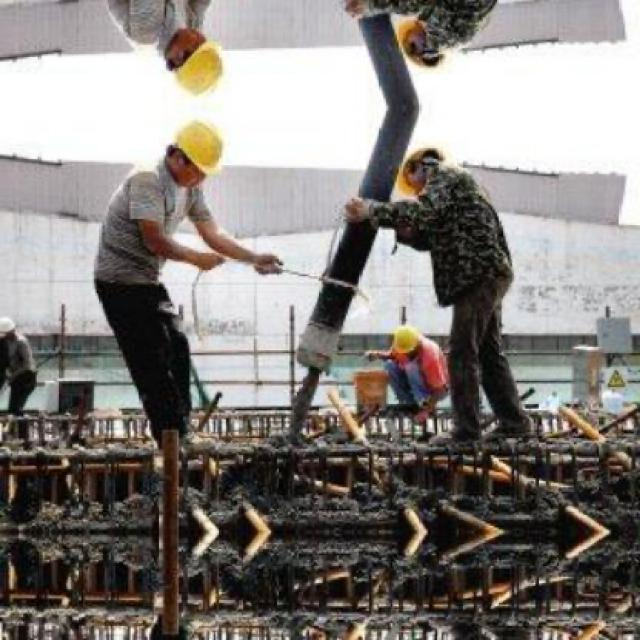helmet: (160, 26, 229, 102), (160, 116, 229, 191), (394, 140, 452, 193), (394, 23, 452, 76), (388, 322, 424, 367)
